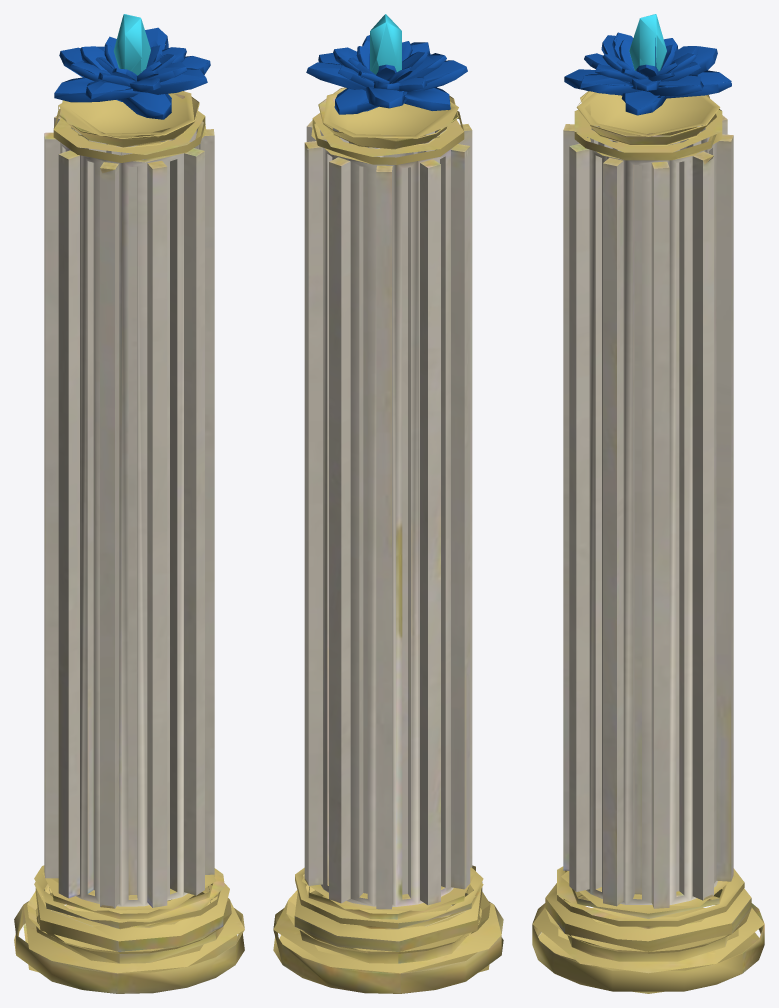
The model's file is archwayPillarLeft_lowPolyCompressed.glb.
The picture shows the model from 3 angles, left to right: view 1: azimuth 30°, elevation 25°; view 2: azimuth 150°, elevation 25°; view 3: azimuth 270°, elevation 25°; orthographic projection.
Parts seen in each view (by area): view 1: archway_polySurface37.002, archway_polySurface37.005, archway_polySurface37.006; view 2: archway_polySurface37.002, archway_polySurface37.005, archway_polySurface37.006; view 3: archway_polySurface37.002, archway_polySurface37.005, archway_polySurface37.006.
Boxes of the visible parts, bbox=[...] form: archway_polySurface37.002: bbox=[14, 91, 244, 993]; archway_polySurface37.005: bbox=[54, 27, 210, 119]; archway_polySurface37.006: bbox=[113, 14, 150, 75]; archway_polySurface37.002: bbox=[273, 87, 503, 993]; archway_polySurface37.005: bbox=[306, 35, 467, 114]; archway_polySurface37.006: bbox=[370, 14, 401, 74]; archway_polySurface37.002: bbox=[532, 91, 764, 993]; archway_polySurface37.005: bbox=[564, 32, 731, 115]; archway_polySurface37.006: bbox=[629, 14, 666, 71].
Bounding box in the file's own units: 0.3006 × 1.33 × 0.3006.
Materials: 3 (1 with a texture image).
